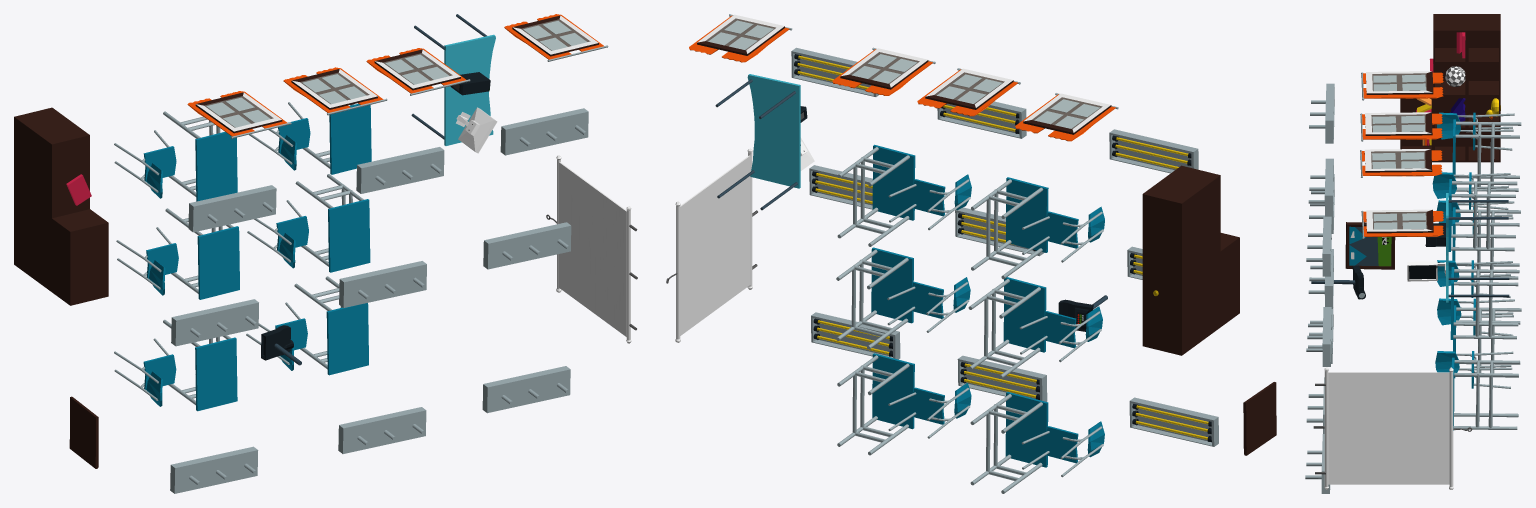
Rendered from scoolINTé.obj.
3 views of the same model, side by side, from view 1: azimuth 30°, elevation 25°; view 2: azimuth 150°, elevation 25°; view 3: azimuth 270°, elevation 25° (orthographic). The views are drawn at different scales.
Parts seen in each view (by area): view 1: group134928402; view 2: group134928402; view 3: group134928402.
Boxes of the visible parts, bbox=[...] form: group134928402: bbox=[14, 14, 637, 493]; group134928402: bbox=[666, 14, 1276, 493]; group134928402: bbox=[1305, 14, 1521, 493].
Size of the model in its own units: 9.36 by 5.6 by 3.75.
